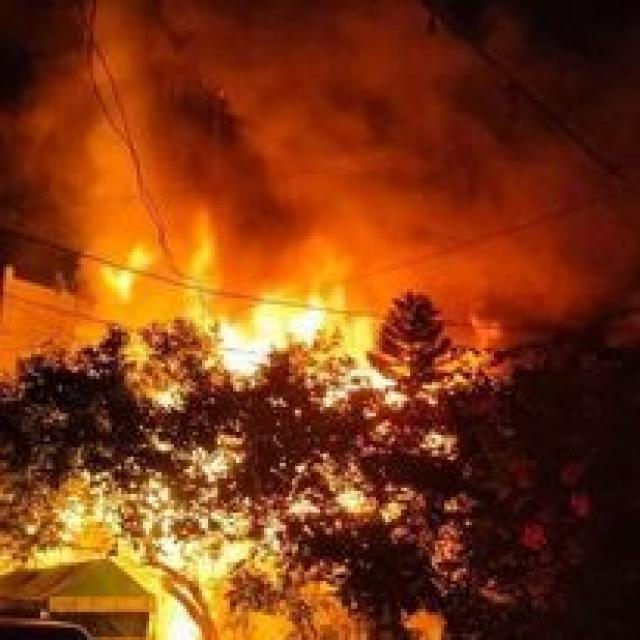Fire: (96, 198, 414, 398), (40, 462, 316, 640)
Smoke: (33, 0, 640, 330)
